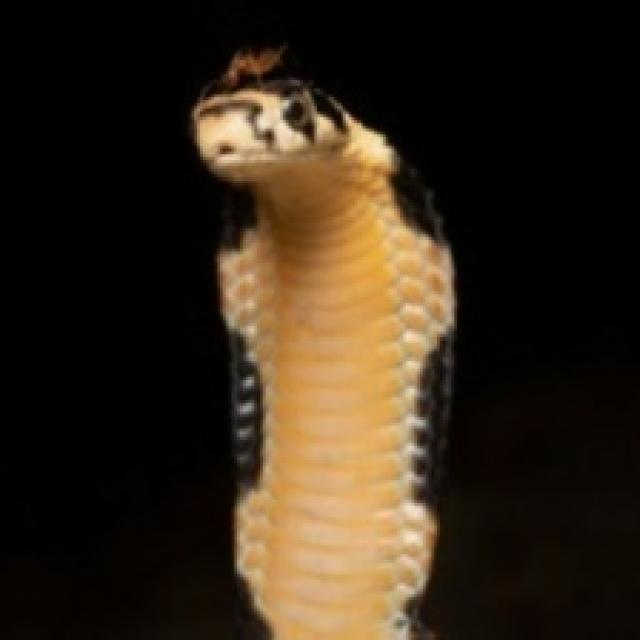king cobra: (191, 49, 451, 637)
